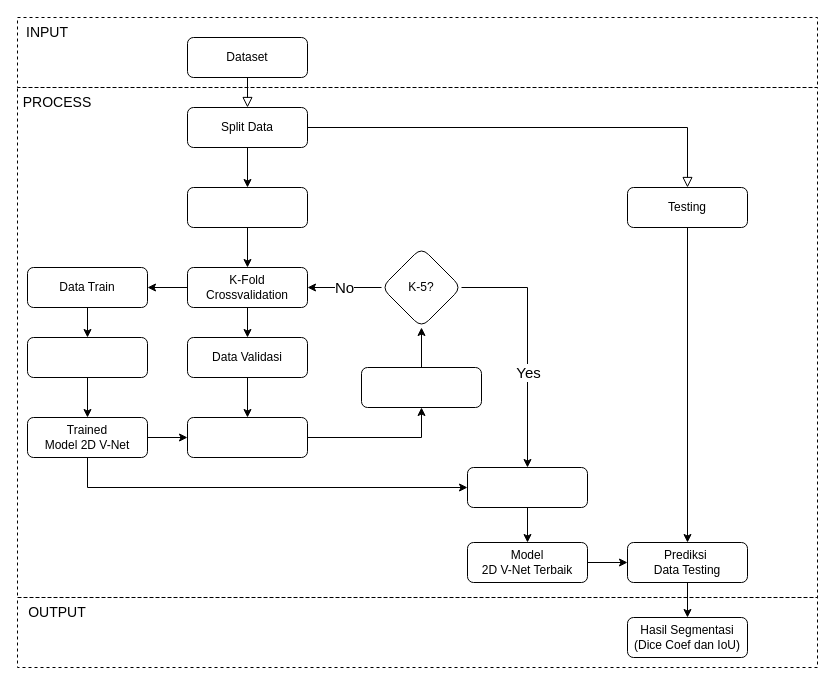
Some shapes in this 835 by 685 pixel diagram are drawn without their labels. Each missing label, with the box of its shape:
Arsitektur 2D V-Net: (26, 336, 148, 378)
Hasil Evaluasi Data Validasi: (360, 366, 482, 408)
Prediksi Data Validasi: (186, 416, 308, 458)
Simpan Model: (466, 466, 588, 508)
Training: (186, 186, 308, 228)
